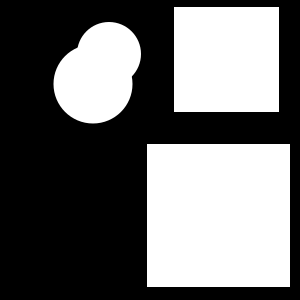circle: (147, 144, 290, 287), (174, 7, 279, 112)
rectangle: (54, 45, 132, 124), (77, 22, 141, 86)
